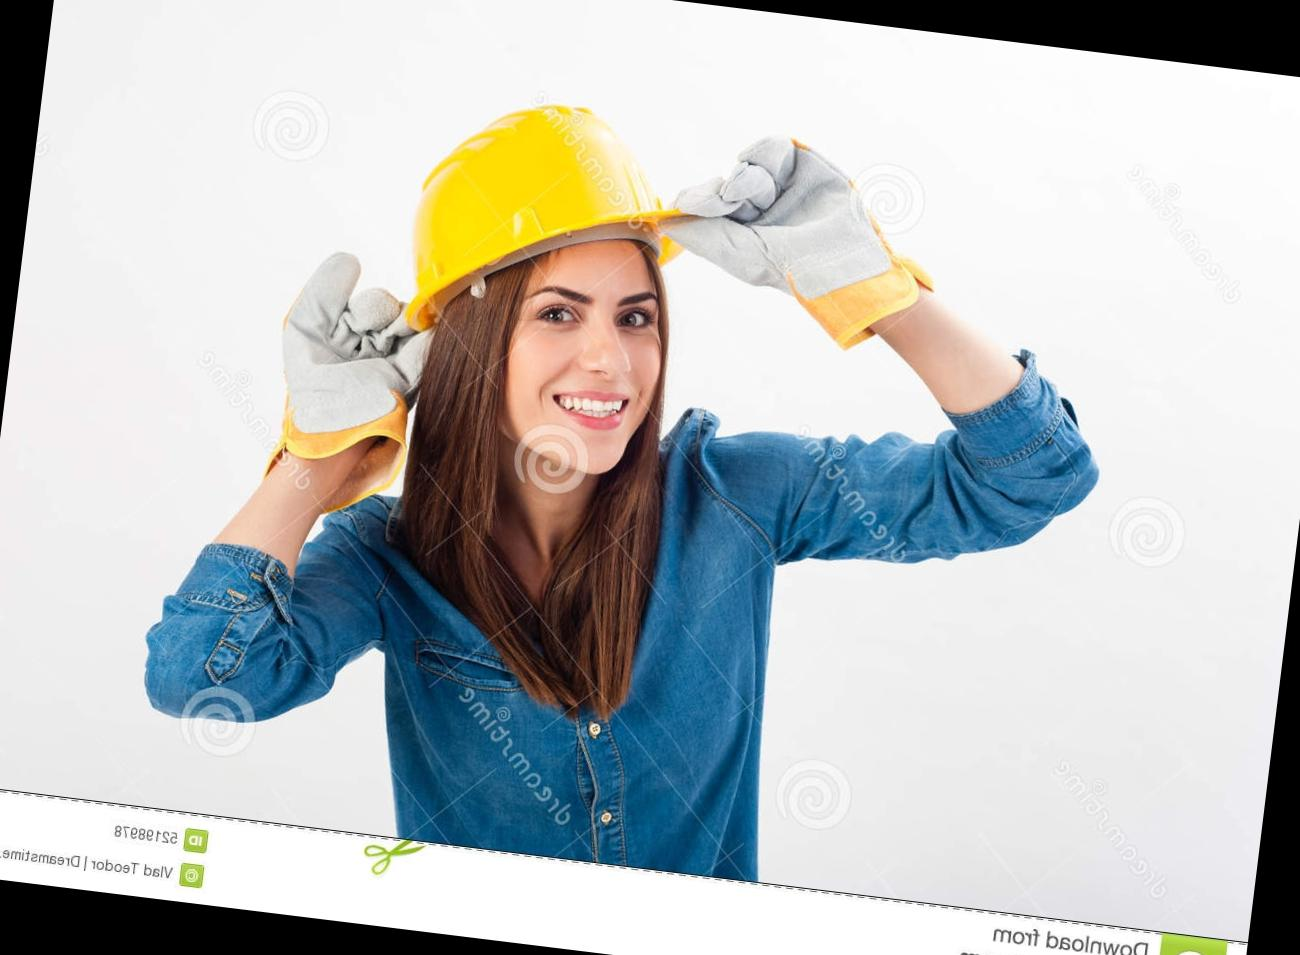helmet: (393, 82, 718, 366)
